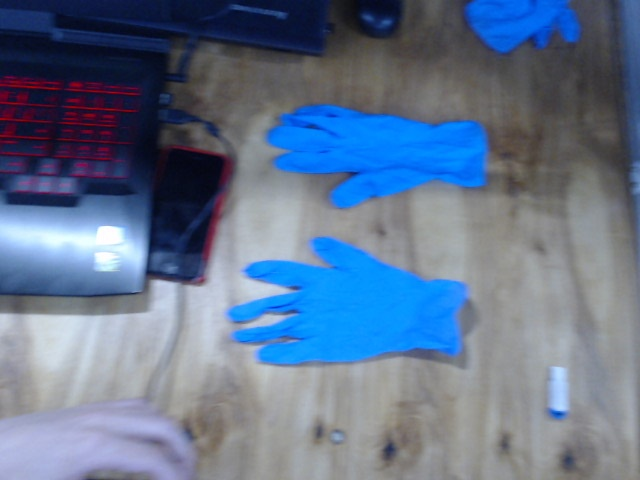medical_glove: (227, 237, 468, 365), (268, 105, 487, 208)
